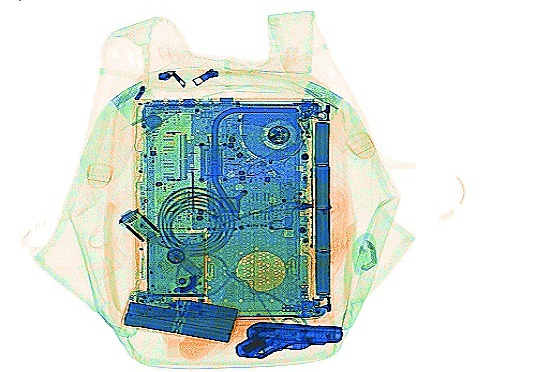powerbank: (117, 286, 240, 345)
